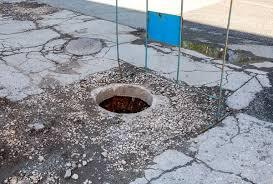open_manhole: (90, 81, 158, 116)
